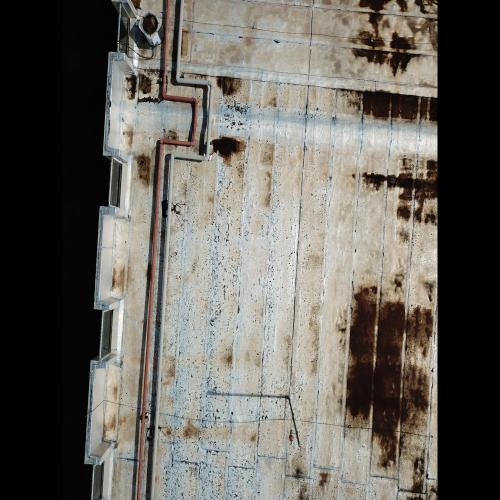conde: (137, 7, 168, 53)
